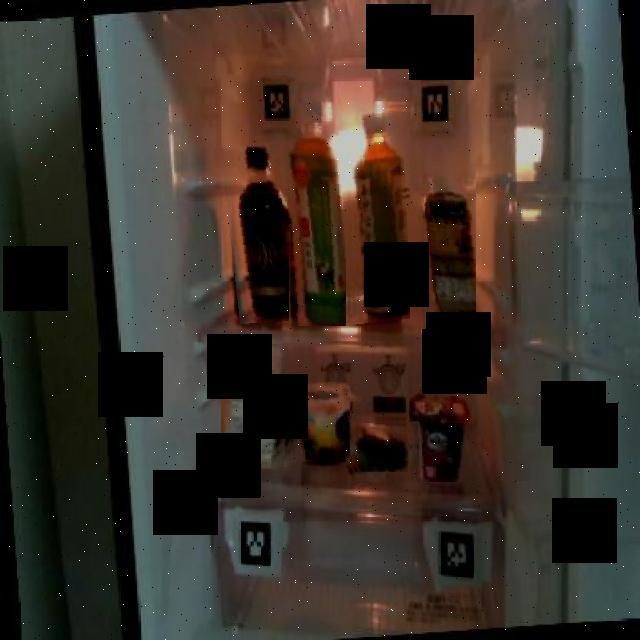coffee: (220, 142, 289, 324)
pudding: (288, 382, 350, 463)
rice_ball: (348, 416, 408, 472)
sandwich: (221, 337, 294, 469)
smoothie: (412, 162, 476, 330)
tea_a: (338, 112, 410, 325)
tea_i: (276, 125, 346, 326)
yogurt: (410, 386, 476, 482)
